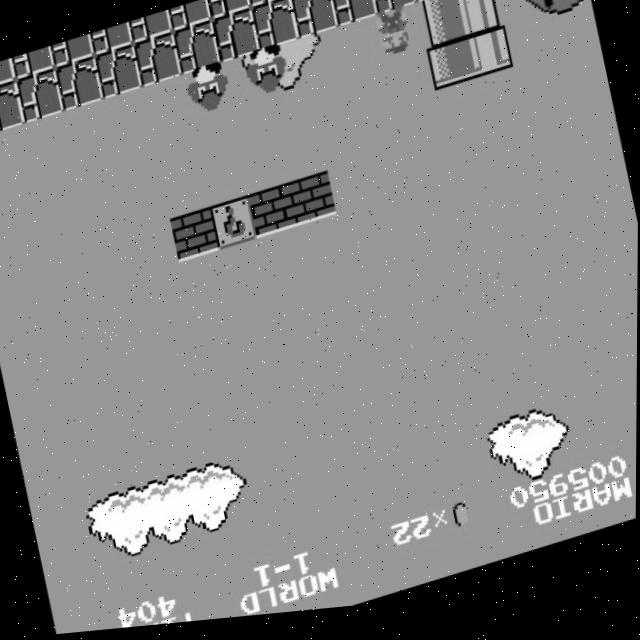1- brick_block: (247, 186, 298, 244), (169, 209, 220, 267), (287, 175, 337, 233)
11- little_mario: (369, 9, 421, 70)
13- mystery_block: (208, 198, 259, 256)
14- pipe: (415, 0, 466, 56), (455, 0, 505, 45)
15- pipe_head: (464, 31, 515, 89), (425, 42, 475, 100)
17- undestructible_block: (132, 33, 183, 91), (171, 22, 222, 79), (211, 10, 261, 68), (93, 44, 143, 102), (15, 67, 65, 125), (250, 0, 300, 57), (54, 56, 104, 113), (289, 0, 339, 46), (328, 0, 378, 35), (89, 23, 134, 58), (50, 34, 95, 69), (167, 1, 212, 35), (128, 12, 173, 46), (11, 46, 56, 80), (0, 78, 26, 134), (367, 0, 417, 23), (206, 0, 251, 24), (406, 0, 456, 11), (245, 0, 290, 12), (0, 57, 16, 89), (284, 0, 329, 1), (446, 0, 496, 0)
8- goomba: (242, 45, 295, 106), (183, 62, 236, 123)
